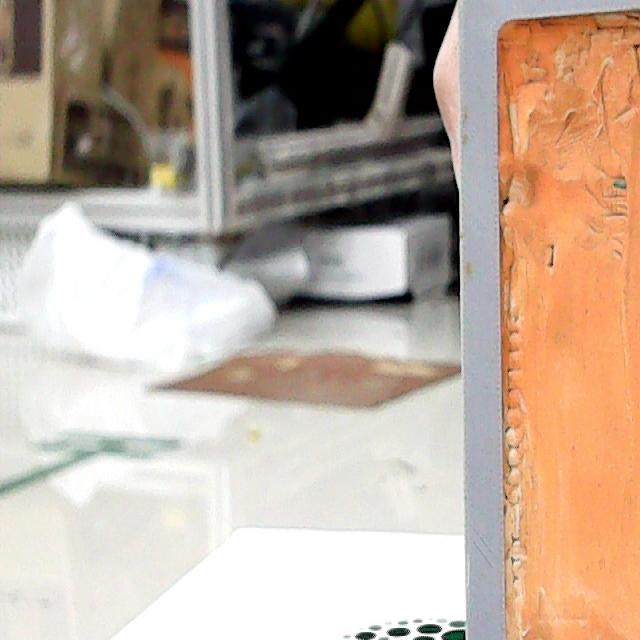block: (426, 1, 640, 640)
